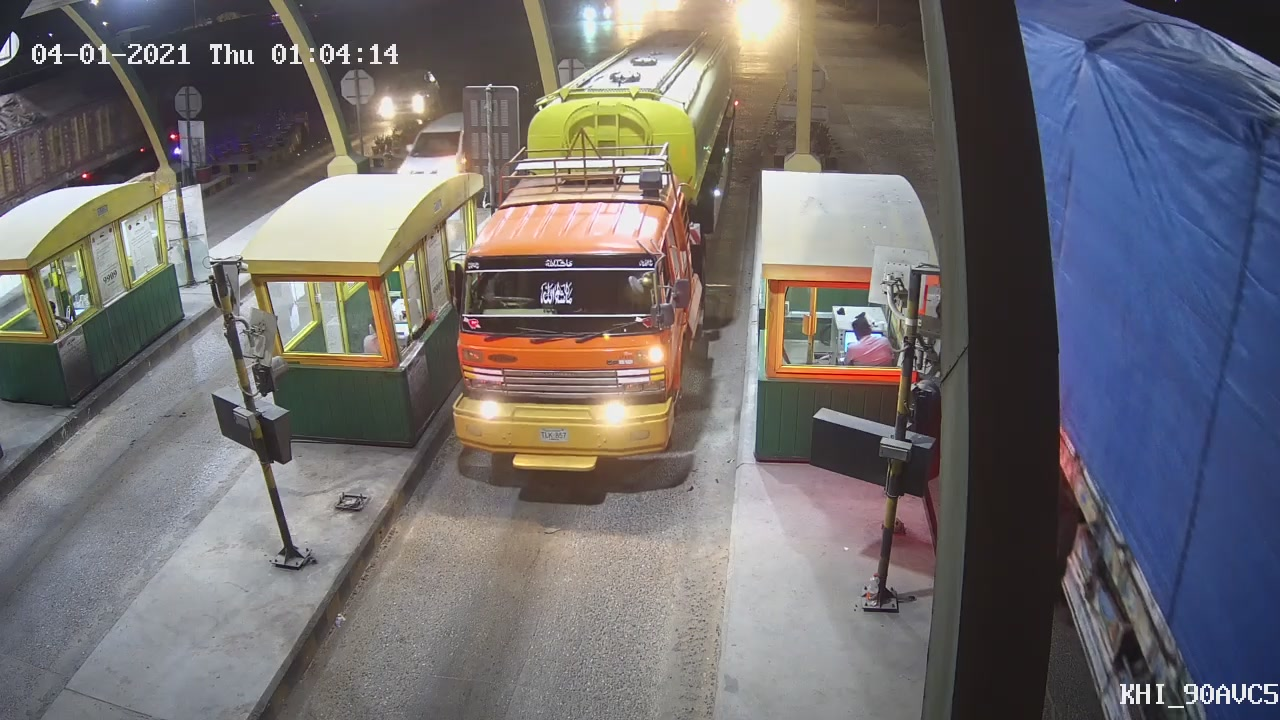F5: (449, 59, 709, 496)
